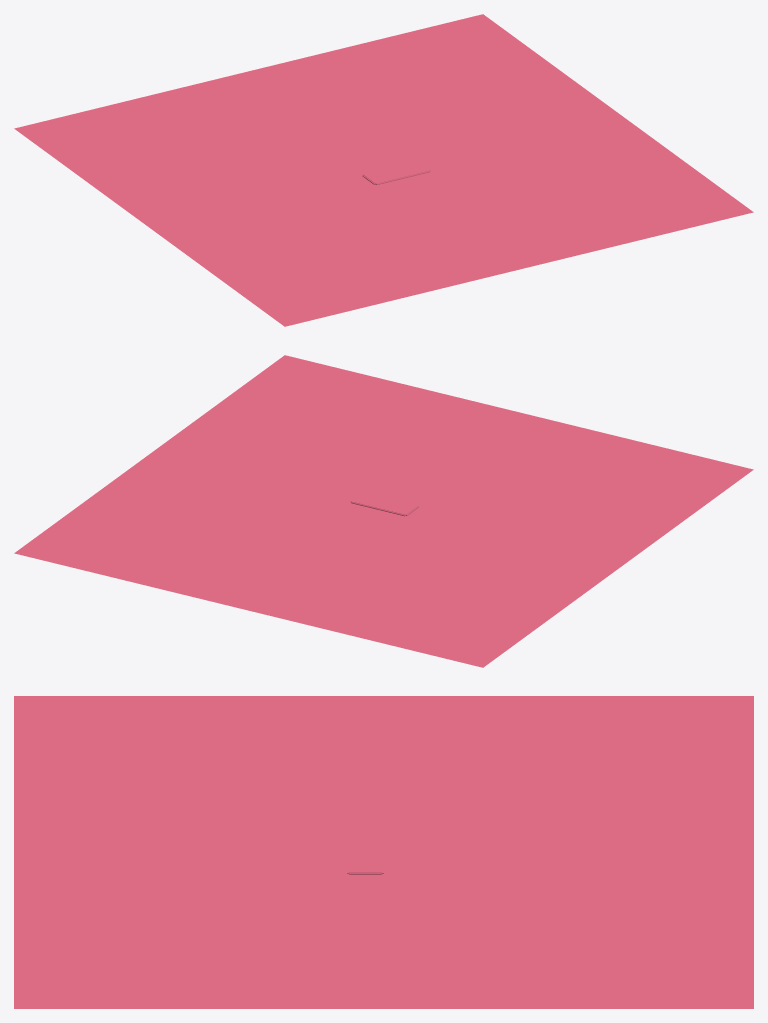
Rendered from 地毯and屋顶.fbx.
3 views of the same model, one above another, from view 1: azimuth 30°, elevation 25°; view 2: azimuth 150°, elevation 25°; view 3: azimuth 270°, elevation 25° (orthographic). The views are drawn at different scales.
Parts seen in each view (by area): view 1: 屋顶; view 2: 屋顶; view 3: 屋顶.
Boxes of the visible parts, <box> form: 屋顶: <box>14,14,753,326</box>; 屋顶: <box>14,355,753,667</box>; 屋顶: <box>14,696,753,1008</box>.
Size of the model in its own units: 4000 by 191 by 4000.
